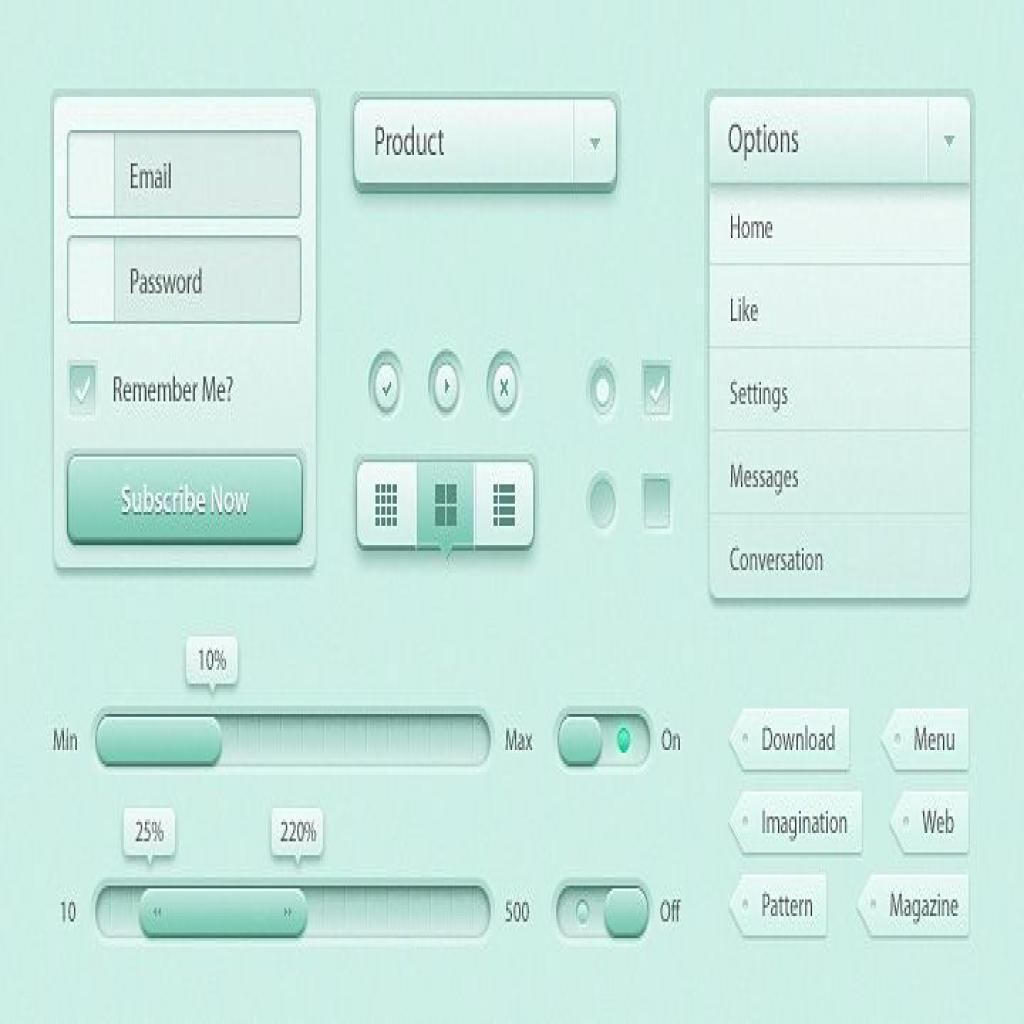button: (67, 457, 305, 548)
checkbox: (66, 365, 102, 419), (642, 476, 675, 534), (644, 364, 674, 424)
dropdown: (353, 98, 619, 196), (706, 93, 971, 188)
input: (70, 135, 304, 218), (73, 240, 301, 324)
radio: (428, 350, 469, 426), (584, 470, 626, 542), (586, 357, 625, 430), (488, 350, 527, 422), (371, 350, 406, 422)
slider: (87, 876, 501, 949), (89, 704, 500, 777)
switch: (547, 878, 657, 948), (556, 705, 654, 778)
